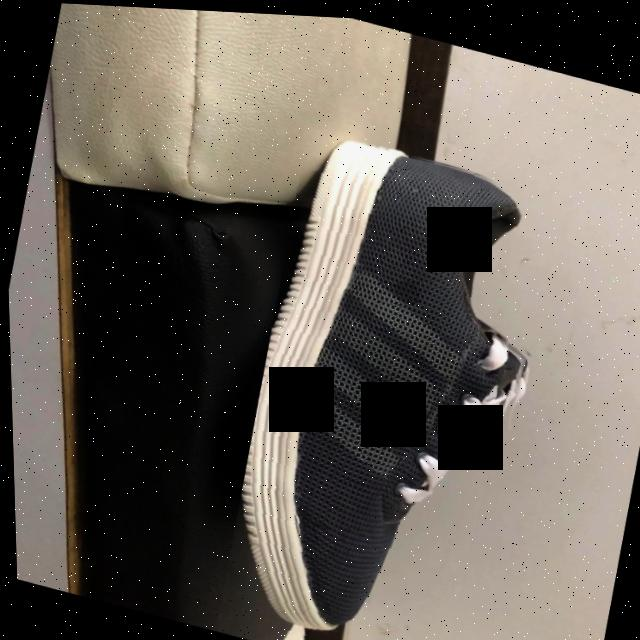shoe: (238, 138, 523, 640)
